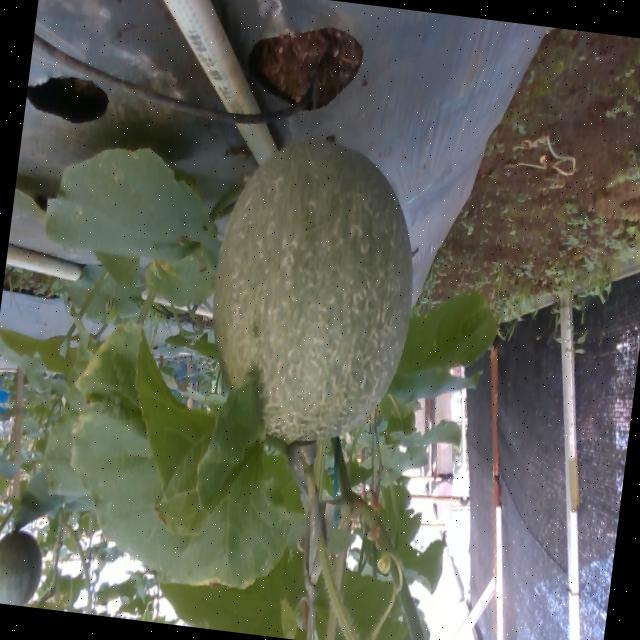melon: (213, 138, 411, 439)
